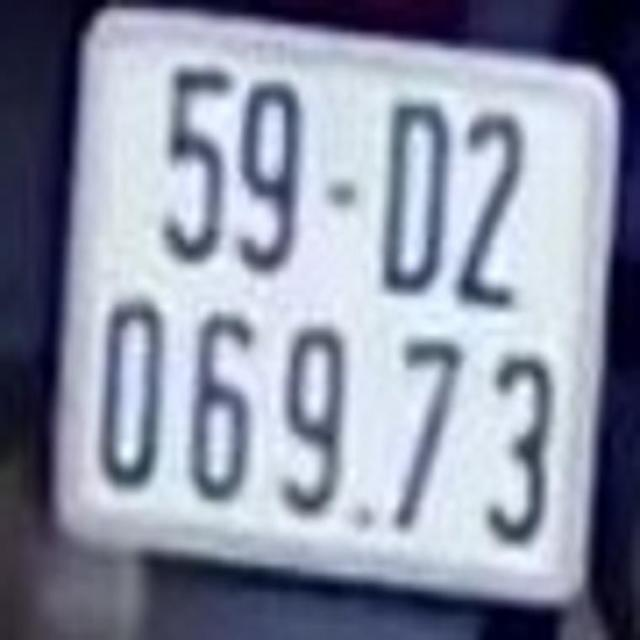0: (98, 296, 163, 488)
2: (459, 108, 523, 310)
3: (486, 349, 553, 545)
5: (163, 63, 229, 263)
6: (192, 308, 252, 501)
7: (395, 333, 464, 532)
9: (237, 77, 299, 272), (282, 324, 342, 514)
D: (381, 99, 448, 298)
